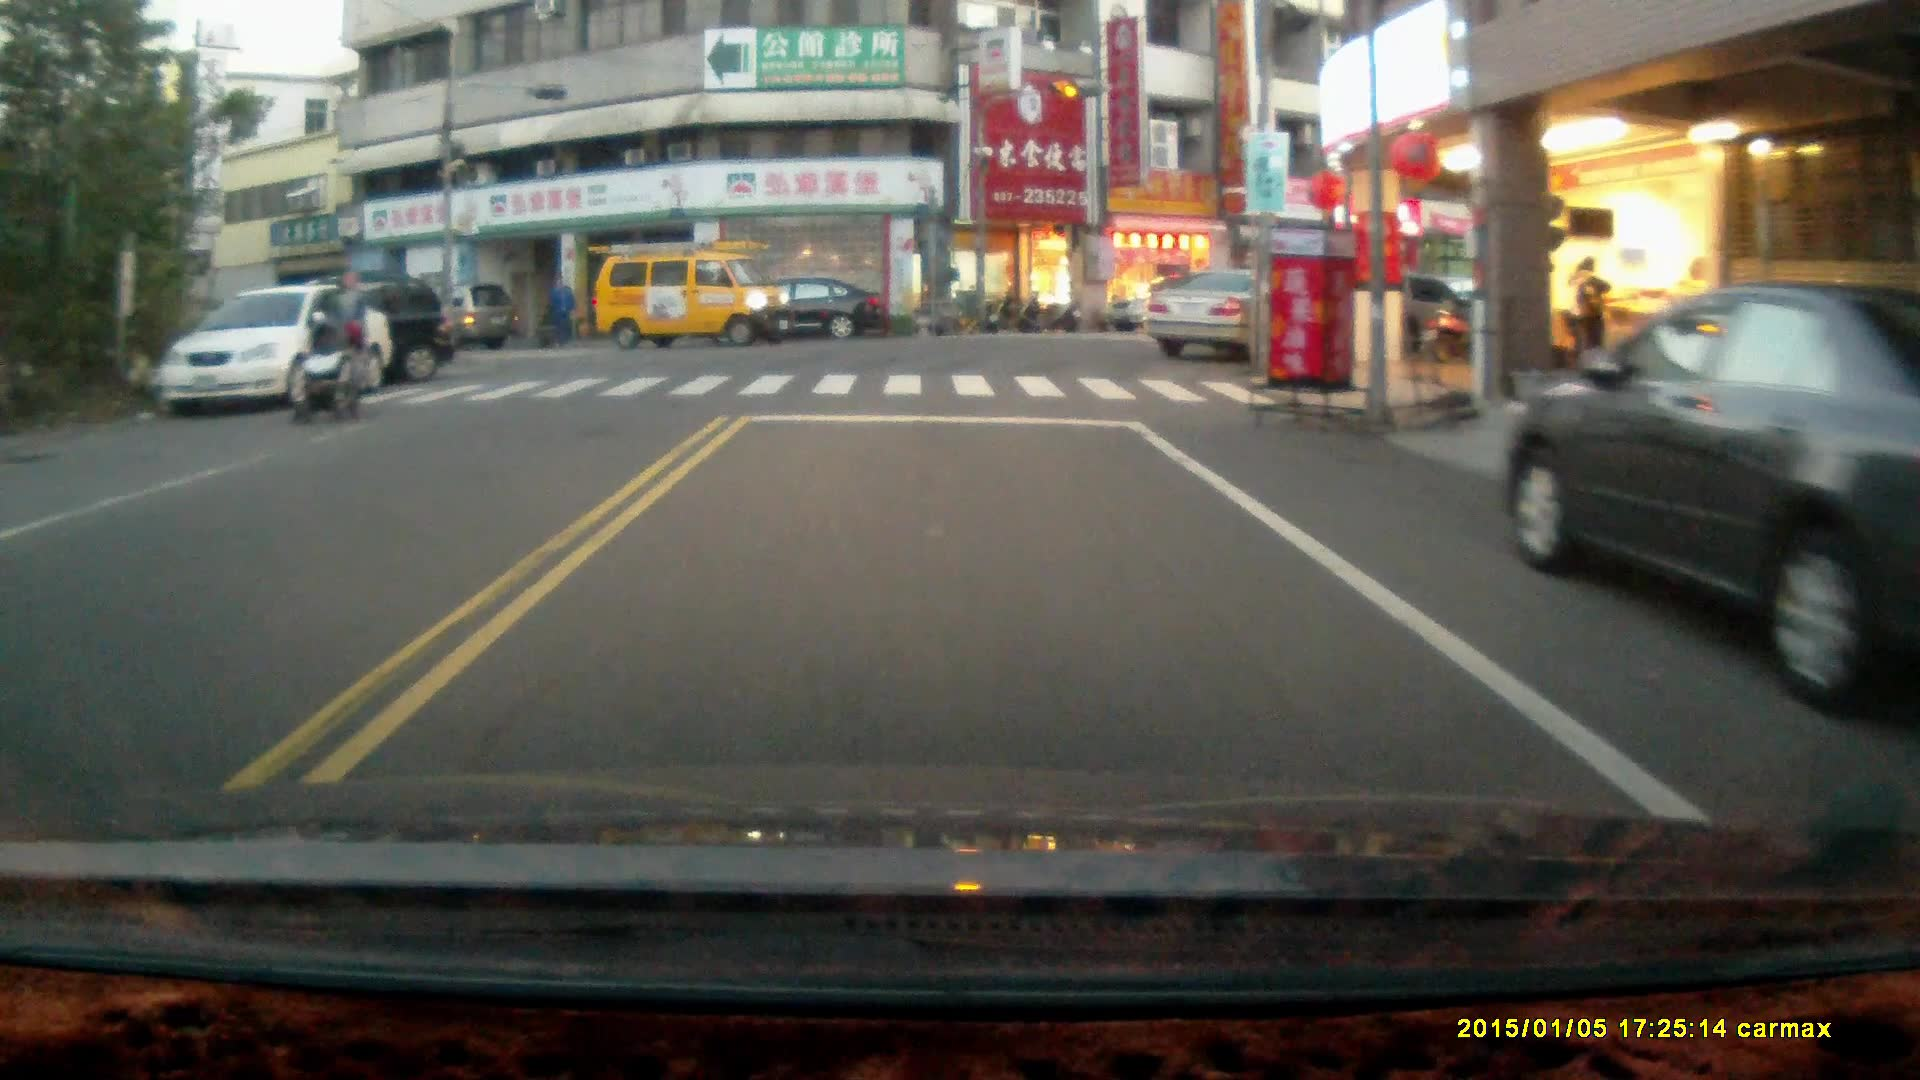pedestrian: (322, 268, 368, 404), (1575, 259, 1609, 383), (547, 274, 573, 347)
rider: (286, 318, 363, 430)
vehicle: (1505, 296, 1920, 726), (154, 287, 389, 417), (238, 270, 454, 386), (594, 241, 795, 349), (1148, 274, 1292, 366), (720, 275, 887, 348), (395, 279, 528, 361)
